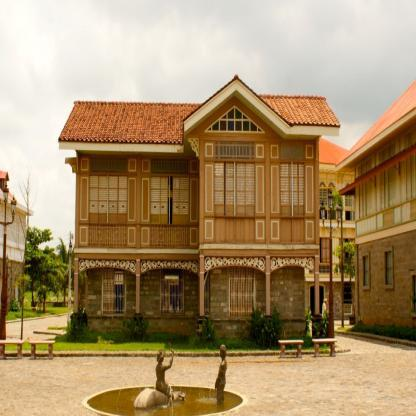Building Outline: (58, 73, 341, 340)
Facade: (77, 142, 320, 339)
Floor Slab: (75, 249, 319, 254)
Ground Floor: (86, 254, 305, 338)
Molding: (78, 259, 198, 276), (204, 256, 315, 274)
Roof: (58, 73, 341, 146)
Top Floor: (76, 136, 319, 249)
Window: (214, 161, 255, 215), (89, 174, 127, 223), (151, 176, 189, 225), (204, 105, 265, 133), (281, 162, 304, 217), (230, 266, 255, 316), (103, 265, 125, 315), (161, 265, 183, 315), (215, 142, 254, 159), (281, 145, 304, 159)
